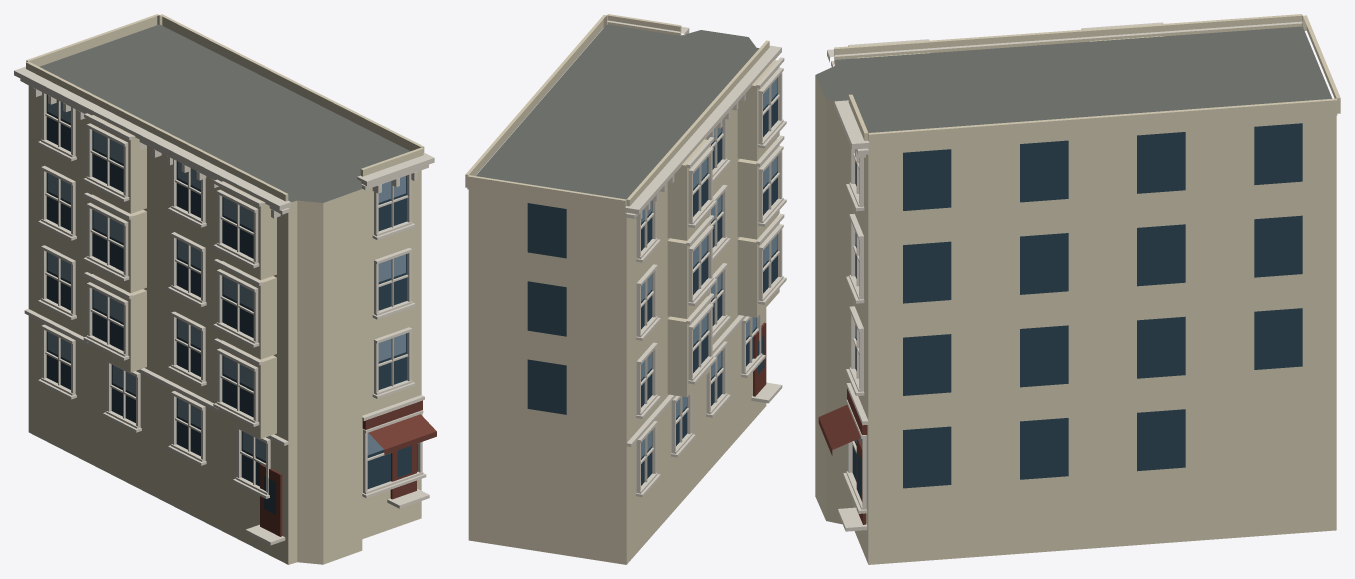
The picture shows the model from 3 angles, left to right: view 1: azimuth 30°, elevation 25°; view 2: azimuth 150°, elevation 25°; view 3: azimuth 270°, elevation 25°; orthographic projection. The views are drawn at different scales.
Visible parts, largest first — view 1: Footprint 0 / surface 2, Cornices and window frames, Footprint 0 / surface 1, Facade bay volumes, Inset glazing, Sky reflection panels, Storefronts and doors; view 2: Footprint 0 / surface 2, Footprint 0 / surface 1, Cornices and window frames, Facade bay volumes, Inset glazing, Sky reflection panels, Storefronts and doors; view 3: Footprint 0 / surface 2, Inset glazing, Footprint 0 / surface 1, Facade bay volumes, Cornices and window frames, Storefronts and doors.
Part boxes in pixels (bbox=[...]): Footprint 0 / surface 2: bbox=[28, 85, 421, 564]; Cornices and window frames: bbox=[14, 66, 434, 545]; Footprint 0 / surface 1: bbox=[39, 24, 410, 202]; Facade bay volumes: bbox=[26, 14, 424, 438]; Inset glazing: bbox=[46, 95, 417, 514]; Sky reflection panels: bbox=[47, 95, 405, 460]; Storefronts and doors: bbox=[260, 400, 436, 536]; Footprint 0 / surface 2: bbox=[468, 109, 766, 564]; Footprint 0 / surface 1: bbox=[476, 24, 759, 199]; Cornices and window frames: bbox=[607, 20, 786, 497]; Facade bay volumes: bbox=[465, 14, 779, 397]; Inset glazing: bbox=[527, 77, 777, 485]; Sky reflection panels: bbox=[641, 78, 777, 457]; Storefronts and doors: bbox=[753, 322, 766, 396]; Footprint 0 / surface 2: bbox=[815, 61, 1336, 564]; Inset glazing: bbox=[852, 123, 1302, 497]; Footprint 0 / surface 1: bbox=[815, 26, 1332, 132]; Facade bay volumes: bbox=[834, 14, 1340, 149]; Cornices and window frames: bbox=[827, 21, 1302, 531]; Storefronts and doors: bbox=[818, 388, 867, 524].
Size of the model in its own units: 8.96 by 14.05 by 15.5.
